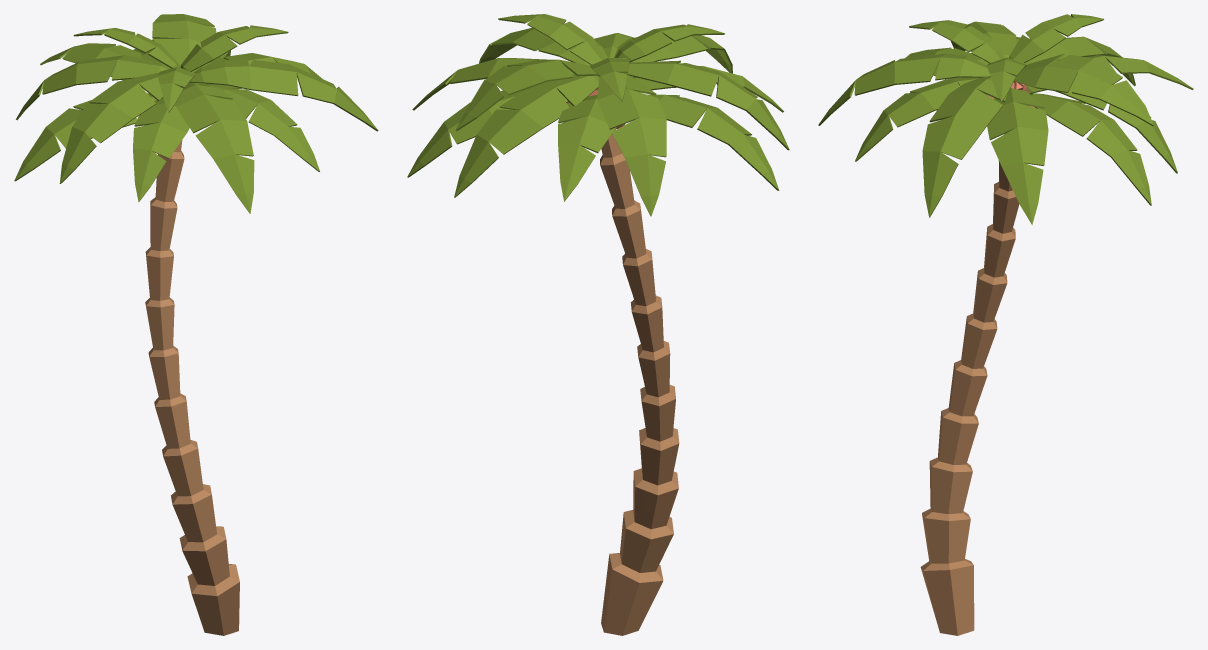
The model's file is Palm_5.fbx.
3 views of the same model, side by side, from view 1: azimuth 30°, elevation 25°; view 2: azimuth 150°, elevation 25°; view 3: azimuth 270°, elevation 25° (orthographic). The views are drawn at different scales.
Parts seen in each view (by area): view 1: Palm_5.001; view 2: Palm_5.001; view 3: Palm_5.001.
Boxes of the visible parts, x1,y1,x2,y2 form: Palm_5.001: (14, 14, 378, 635); Palm_5.001: (407, 14, 789, 635); Palm_5.001: (818, 14, 1193, 635).
Size of the model in its own units: 2.87 by 4.71 by 2.75.
